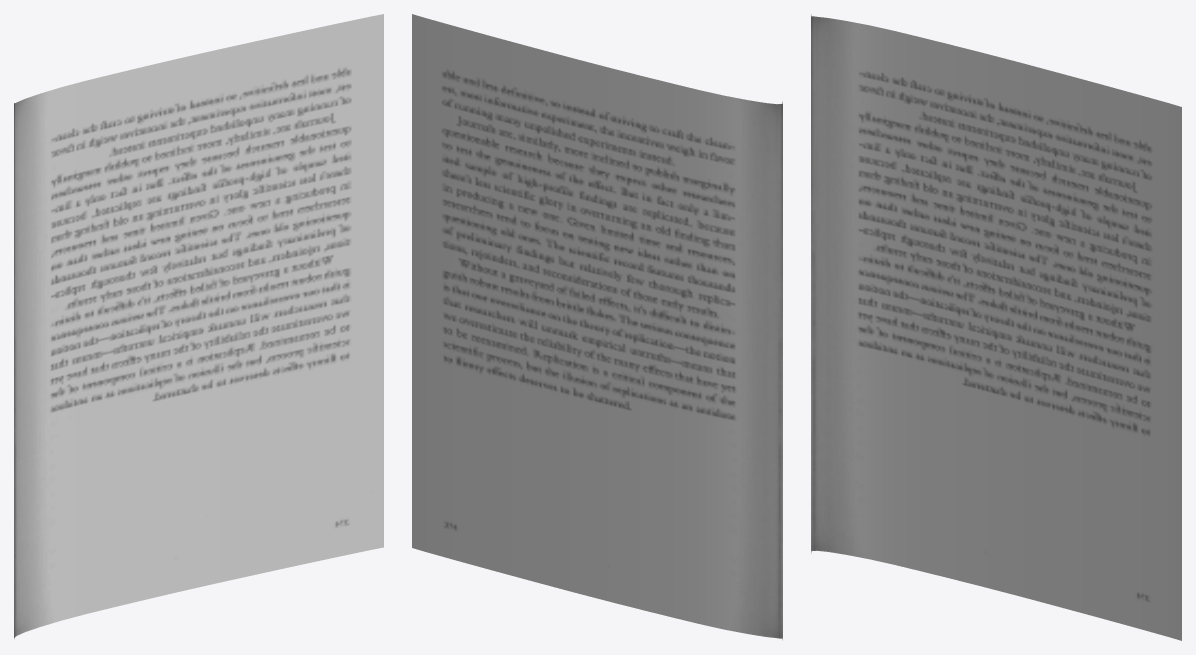
The model's file is MeshBookFront_21_1_GeomSubset_2.obj.
The picture shows the model from 3 angles, left to right: view 1: azimuth 30°, elevation 25°; view 2: azimuth 150°, elevation 25°; view 3: azimuth 330°, elevation 25°; orthographic projection.
Parts seen in each view (by area): view 1: MeshBookFront_21_1_GeomSubset_2; view 2: MeshBookFront_21_1_GeomSubset_2; view 3: MeshBookFront_21_1_GeomSubset_2.
Part boxes in pixels (box(x1,y1,x2,y2)): MeshBookFront_21_1_GeomSubset_2: box(14, 14, 383, 638); MeshBookFront_21_1_GeomSubset_2: box(412, 14, 782, 640); MeshBookFront_21_1_GeomSubset_2: box(811, 14, 1181, 640).
Bounding box in the file's own units: 0.2595 × 0.3615 × 0.00798.
